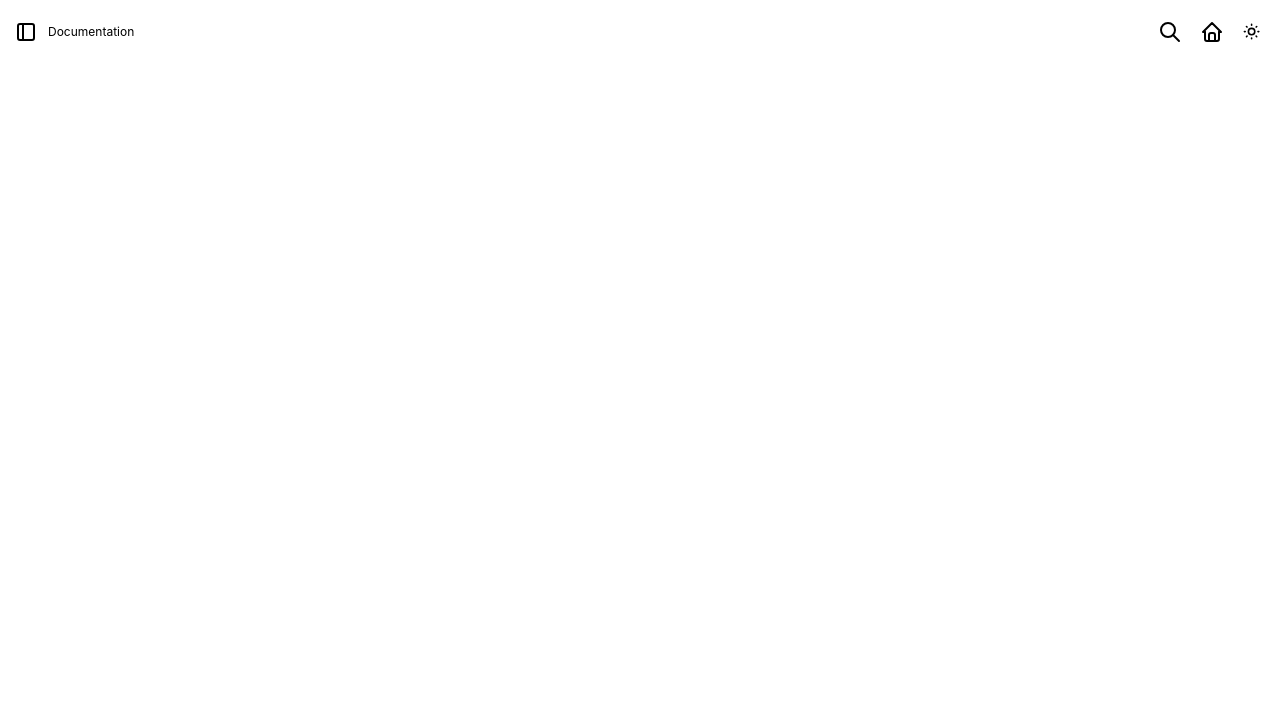
Test: loads the empty query and distinguishes it from an empty filtered result
Press k
Wait 250 ms
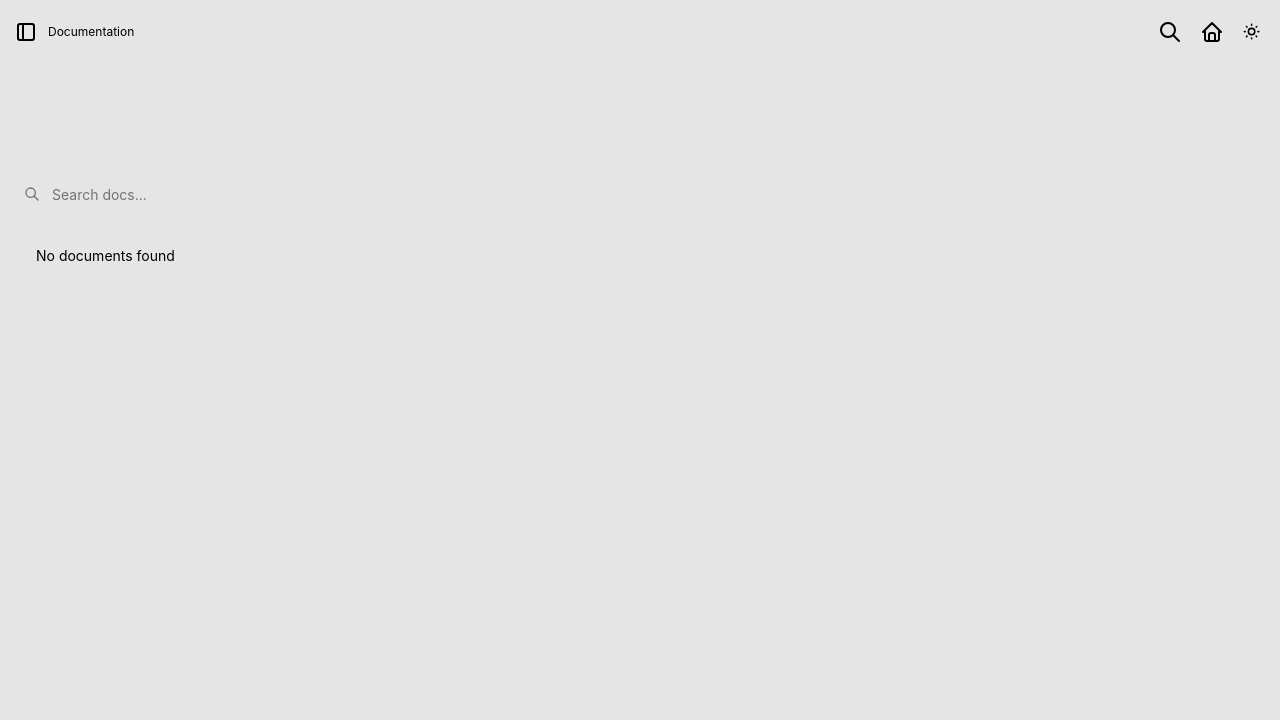
Expected: the message reads "No documents found", [36,247,175,264]
In the dropdown labelled "Search docs": x=652, y=194 [40,170,1264,218], type "missing"
Wait 250 ms
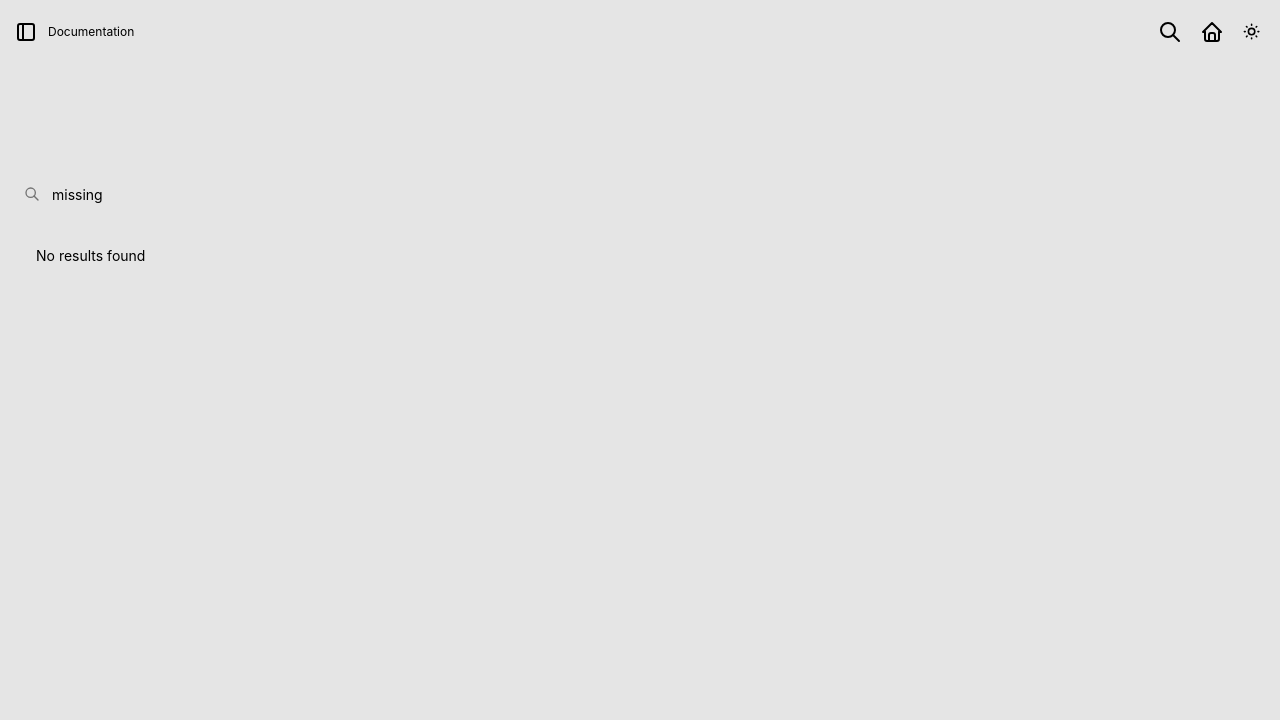
Expected: the message reads "No results found", [36,247,145,264]
